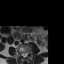CCS_normal: (23, 50, 25, 59)
LFS_normal: (27, 49, 29, 55)
LLS_normal: (25, 50, 27, 57)
RFS_normal: (19, 50, 21, 56)
RLS_normal: (21, 50, 23, 58)
